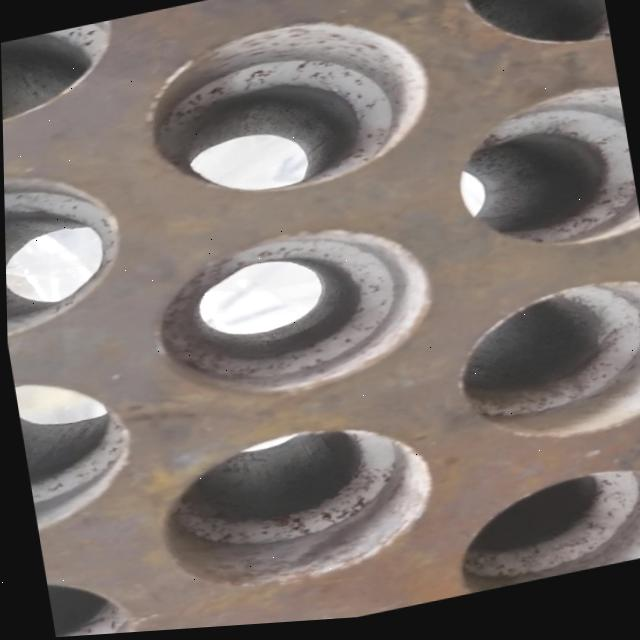Hole: (133, 1, 441, 219), (141, 212, 443, 422), (145, 410, 442, 610), (444, 278, 640, 466), (445, 88, 640, 275), (443, 462, 640, 602), (3, 153, 132, 334), (11, 357, 141, 535), (0, 20, 124, 126), (453, 0, 611, 73), (43, 557, 138, 638)
